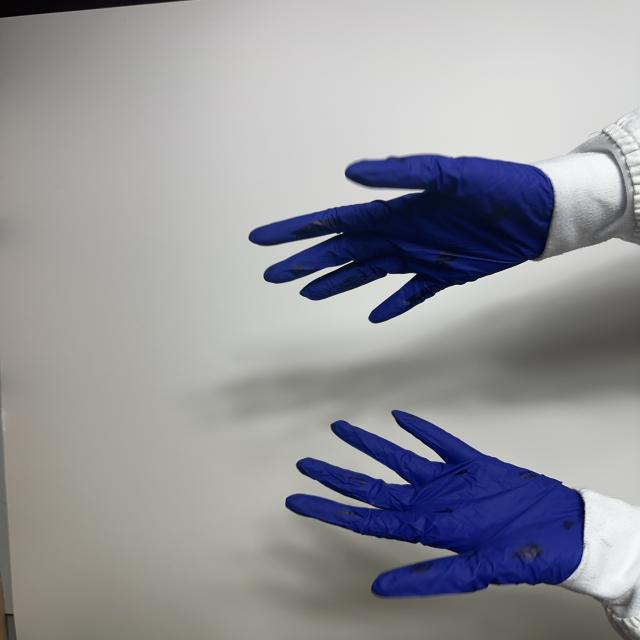gloves_contaminated: (286, 410, 584, 596), (250, 155, 559, 323)
